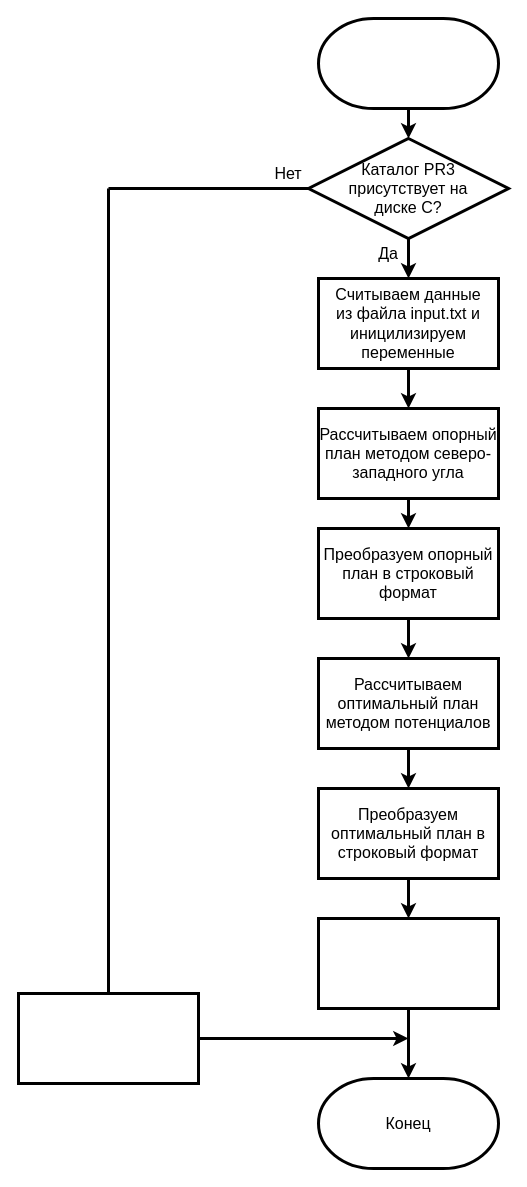
This 527x1187 diagram has some shape labels left out. The shapes that lost their labels are listed below. From the top down, each one's box as (x1, y1, x2, y2) in pixels, then its label:
(316, 16, 500, 110): Начало
(316, 916, 500, 1010): Запись оптимального и опорного плана в файл output.txt
(16, 992, 200, 1084): Создаем каталог PR3
